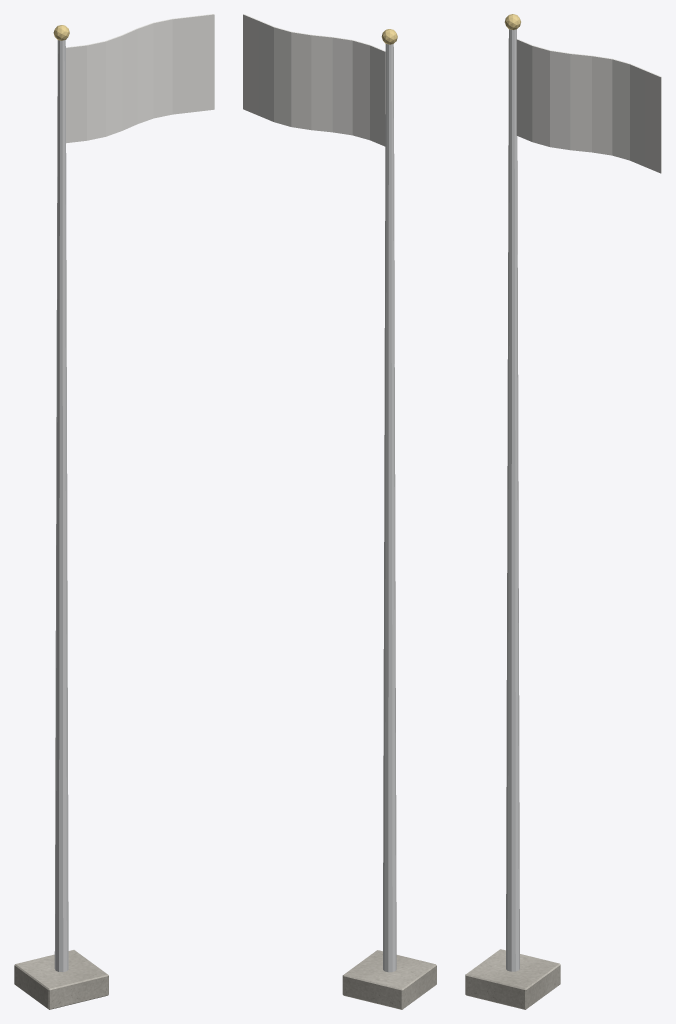
File: flagpole_w.glb
The picture shows the model from 3 angles, left to right: view 1: azimuth 30°, elevation 25°; view 2: azimuth 150°, elevation 25°; view 3: azimuth 330°, elevation 25°; orthographic projection.
Visible parts, largest first — view 1: flagpole_w_flag_w, flagpole_w_steel, flagpole_w_concrete; view 2: flagpole_w_flag_w, flagpole_w_steel, flagpole_w_concrete; view 3: flagpole_w_flag_w, flagpole_w_steel, flagpole_w_concrete.
Boxes of the visible parts, box(x1,y1,x2,y2) form: flagpole_w_flag_w: box(66, 14, 214, 143); flagpole_w_steel: box(54, 40, 68, 971); flagpole_w_concrete: box(14, 950, 108, 1009); flagpole_w_flag_w: box(243, 14, 385, 146); flagpole_w_steel: box(383, 44, 396, 972); flagpole_w_concrete: box(342, 950, 436, 1009); flagpole_w_flag_w: box(516, 39, 661, 173); flagpole_w_steel: box(506, 29, 519, 971); flagpole_w_concrete: box(465, 949, 560, 1009).
Bounding box in the file's own units: 1.78 × 9.12 × 0.6.
Materials: 4 (1 with a texture image).
